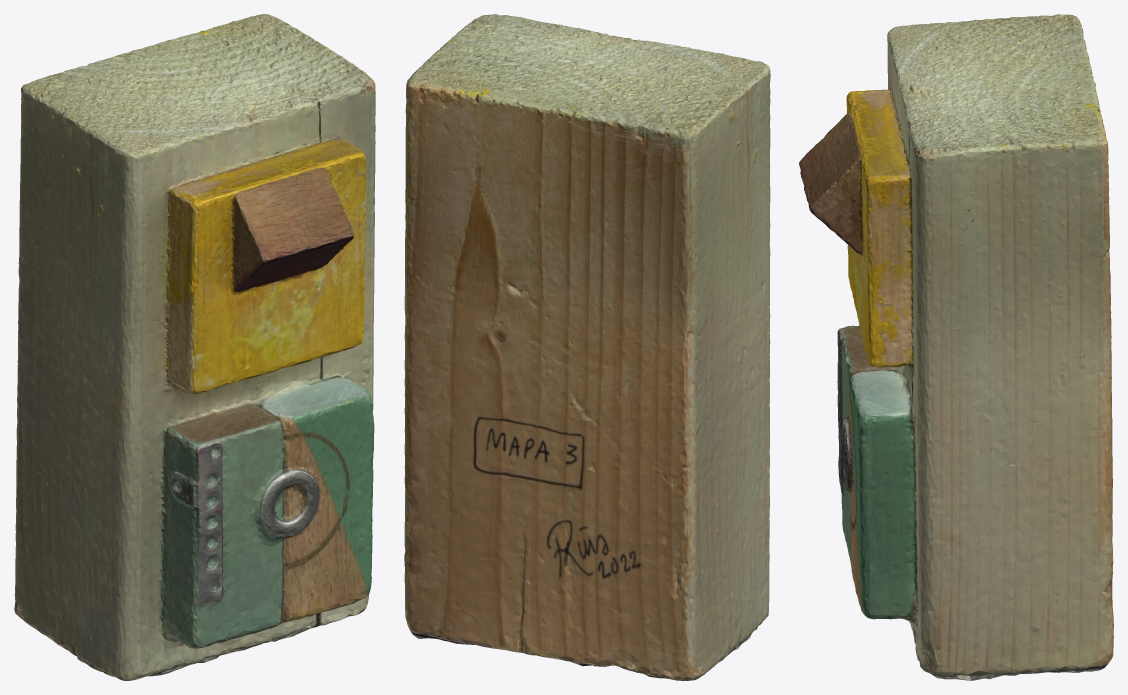
The model's file is Mapa_3.fbx.
3 renders of one model, left to right at view 1: azimuth 30°, elevation 25°; view 2: azimuth 150°, elevation 25°; view 3: azimuth 270°, elevation 25°, orthographic. The views are drawn at different scales.
Parts seen in each view (by area): view 1: Object; view 2: Object; view 3: Object.
Boxes of the visible parts, x1=… form: Object: x1=14, y1=14, x2=375, y2=680; Object: x1=404, y1=14, x2=770, y2=680; Object: x1=799, y1=14, x2=1113, y2=680.
Size of the model in its own units: 7.79 by 14.2 by 7.51.
Materials: 1 (1 with a texture image).
